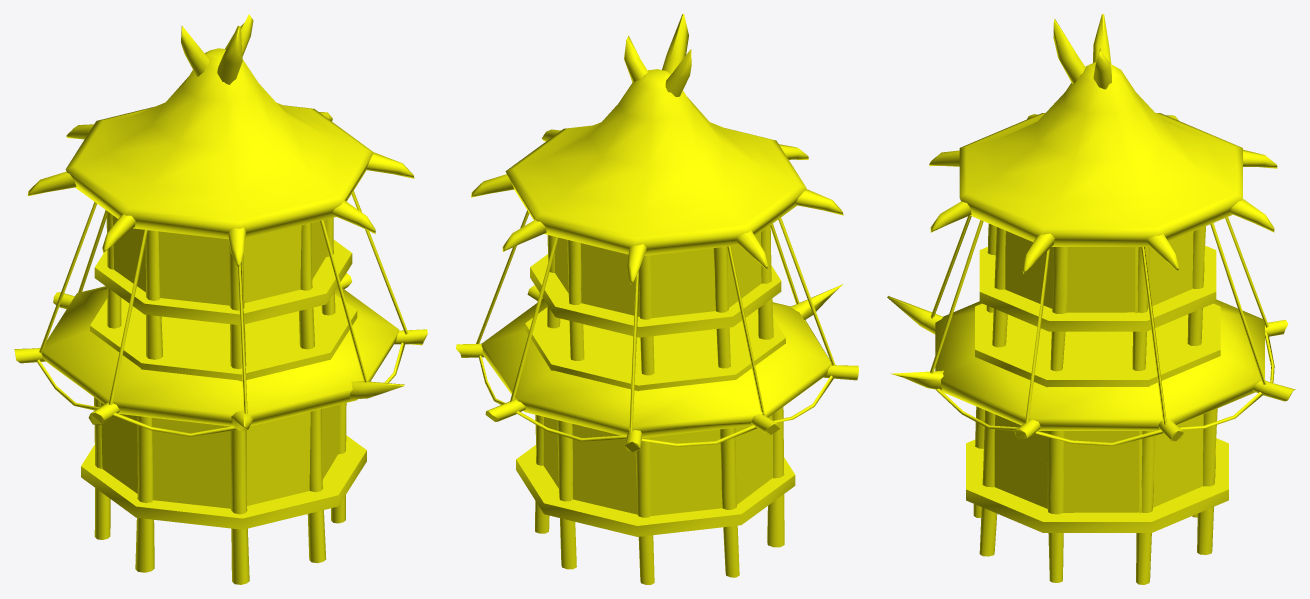
Rendered from camp_redthief_build_08.glb.
3 renders of one model, left to right at view 1: azimuth 30°, elevation 25°; view 2: azimuth 150°, elevation 25°; view 3: azimuth 270°, elevation 25°, orthographic. The views are drawn at different scales.
Parts seen in each view (by area): view 1: camp_redthief_build_08; view 2: camp_redthief_build_08; view 3: camp_redthief_build_08.
Part boxes in pixels (left/top/right/bottom): camp_redthief_build_08: left=14, top=14, right=427, bottom=584; camp_redthief_build_08: left=456, top=14, right=858, bottom=584; camp_redthief_build_08: left=887, top=14, right=1295, bottom=584.
Bounding box in the file's own units: 9.95 × 14.65 × 10.55.
Materials: 2 (2 with a texture image).
